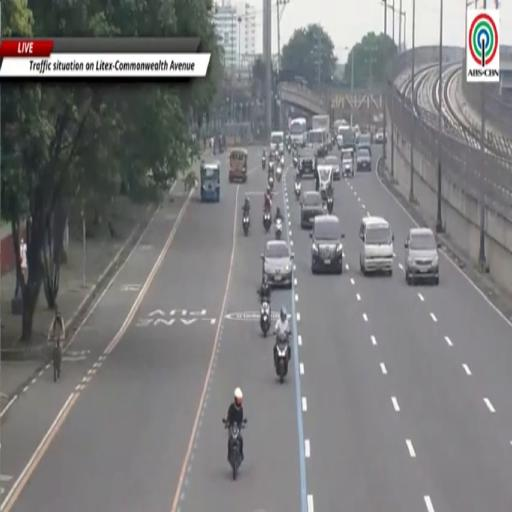car: (310, 215, 344, 274), (360, 217, 393, 275), (405, 228, 439, 284), (261, 240, 294, 287), (301, 191, 324, 229), (297, 148, 317, 178), (308, 130, 327, 157), (322, 155, 340, 180), (340, 148, 354, 177), (357, 148, 371, 171), (358, 133, 371, 156), (374, 129, 385, 144)
jeepney: (200, 161, 220, 202), (229, 149, 247, 183), (318, 165, 333, 200)
motorcycle: (223, 419, 247, 479), (275, 340, 290, 382), (260, 299, 270, 337), (243, 213, 250, 236), (263, 212, 271, 232), (275, 218, 282, 239), (326, 197, 333, 214), (276, 166, 282, 182), (295, 182, 300, 200), (268, 175, 273, 189), (262, 157, 266, 169), (293, 157, 297, 168), (280, 156, 284, 167), (287, 143, 291, 153)
truck: (312, 115, 332, 148), (289, 118, 307, 147)
